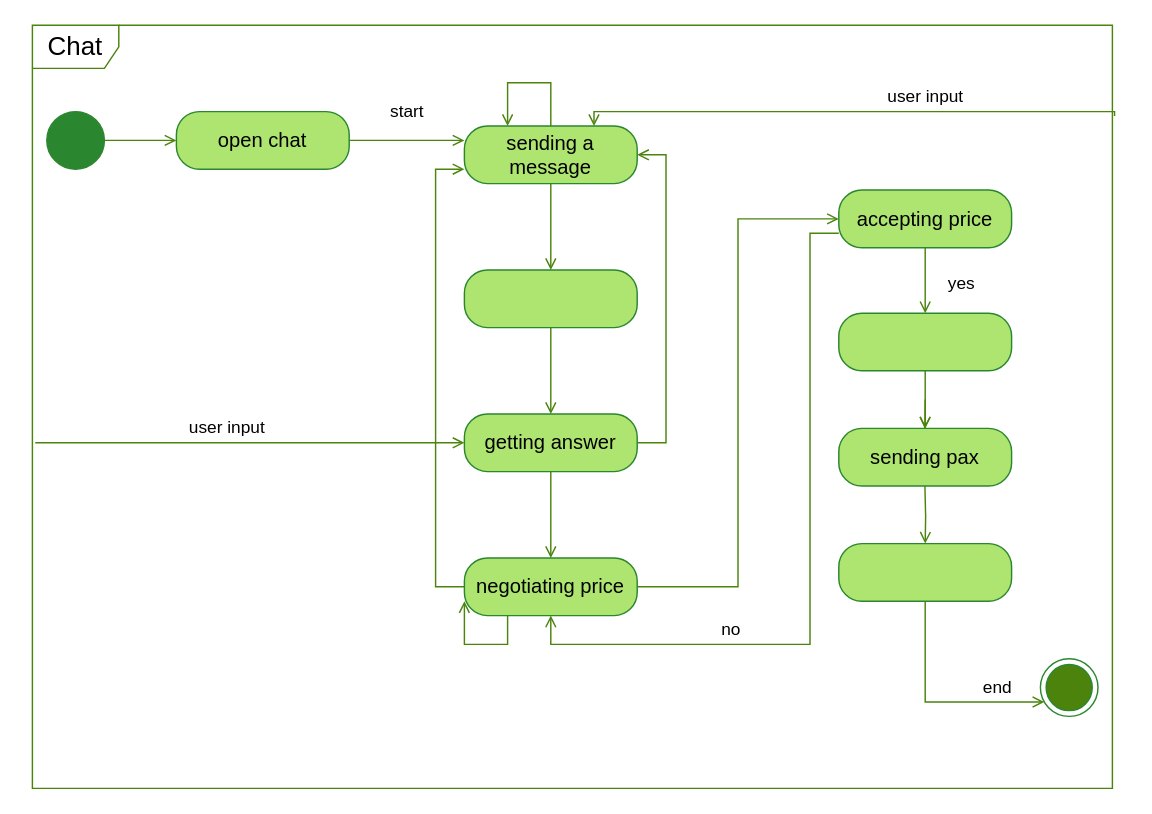
Some shapes in this 1152 by 814 pixel diagram are drawn without their labels. Each missing label, with the centre of its shape:
"close chat" goes at point (924, 571).
"creating pax" goes at point (924, 341).
"waiting for answer" goes at point (550, 298).
